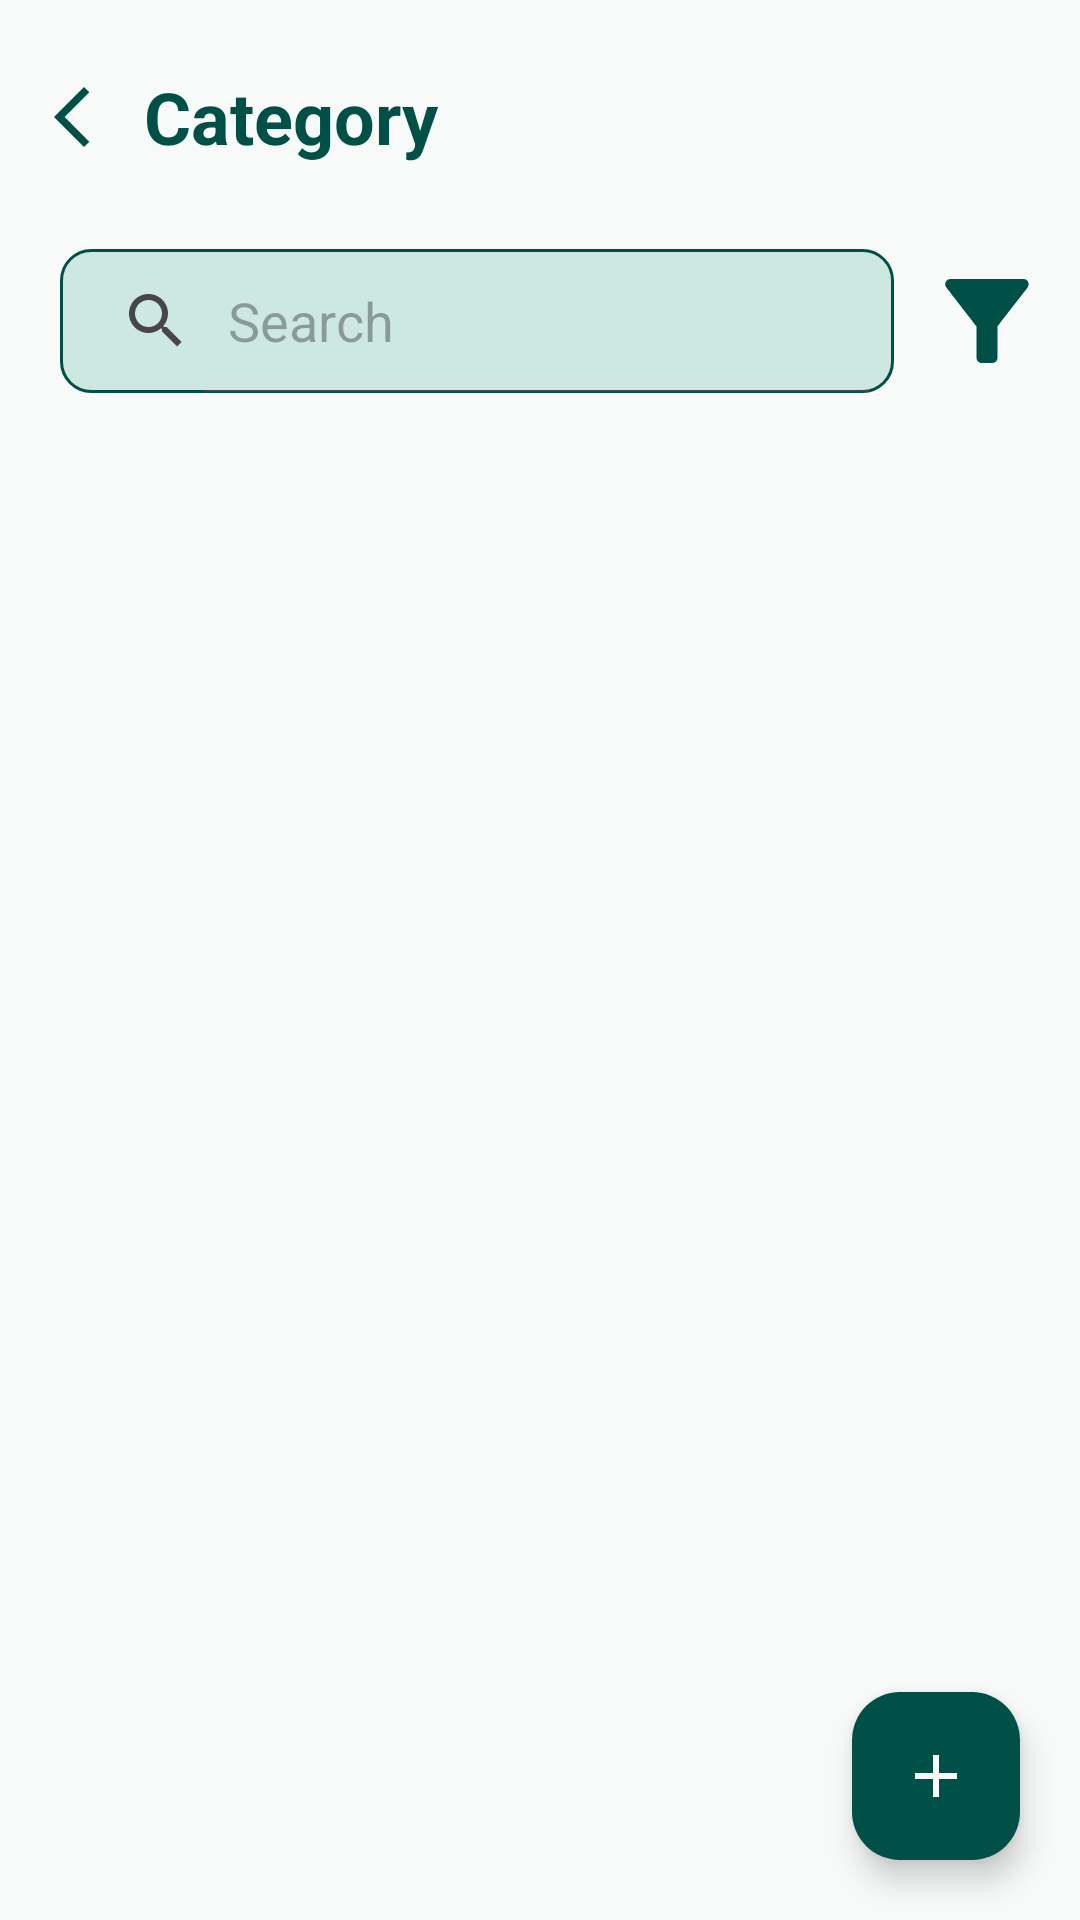

Where to tap for icons on this 1080w x 1920h app screen, as [x,y]:
add: [936,1776]
back: [71,117]
filter: [987,321]
